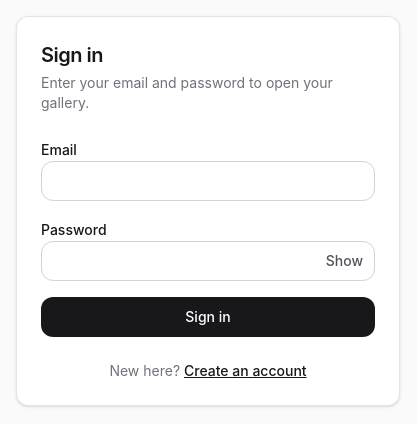
SignInPage › disables the button with a spinner while the request runs
In the field labelled "Email": coordinates (208, 181) [41,161,375,201], type "ada@example.com"
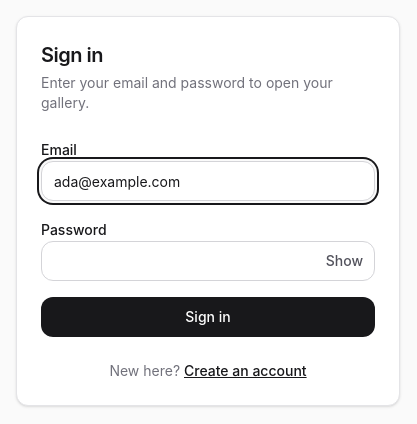
In the password field labelled "Password": coordinates (208, 261) [41,241,375,281], type "correct-horse"
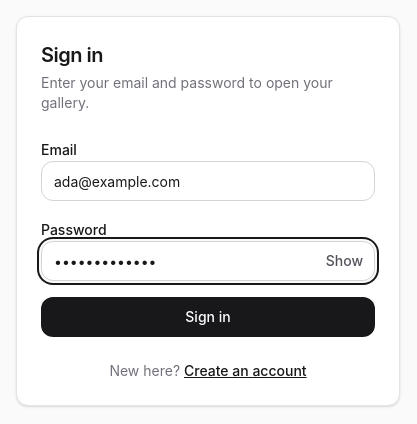
Click the button "Sign in": coordinates (208, 317) [41,297,375,337]
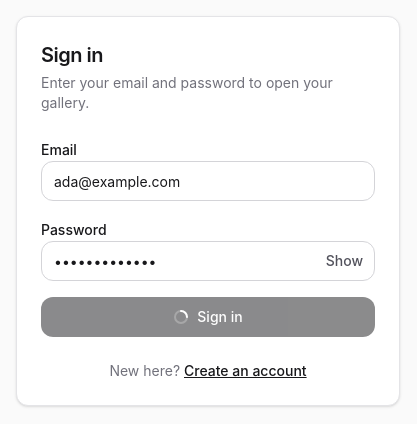
Expected: the button "Sign in" is disabled, [41,297,375,337]
